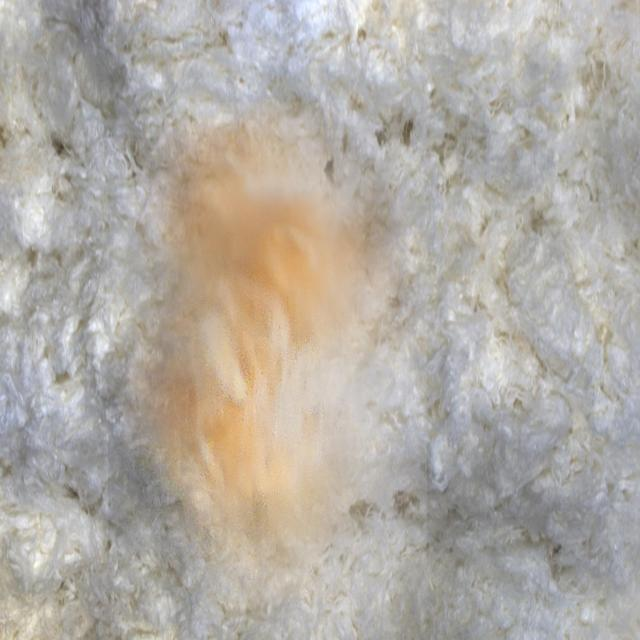dust: (108, 102, 427, 640)
